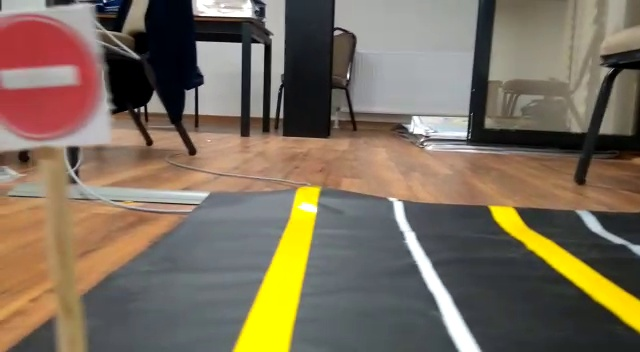girisi_olmayan_yol: (1, 3, 108, 138)
